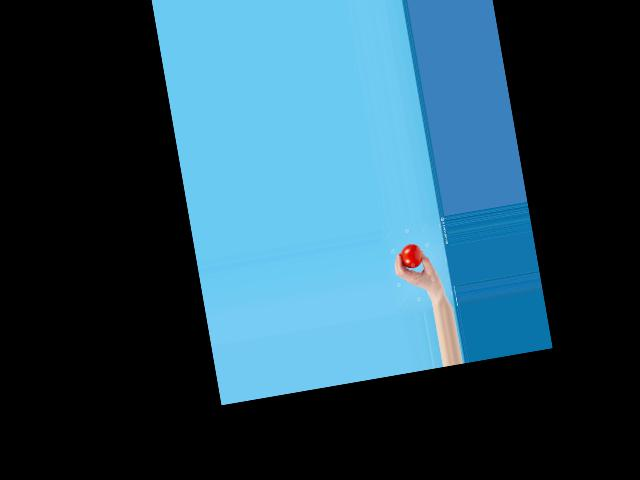tomato: (399, 243, 423, 270)
